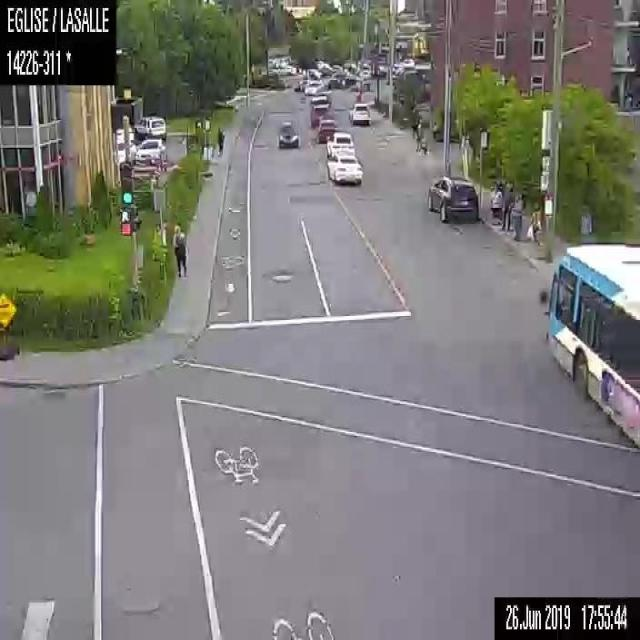bus: (539, 240, 639, 447)
pedestrian: (499, 179, 514, 232), (172, 224, 187, 277), (509, 190, 525, 239), (526, 200, 542, 248), (487, 181, 502, 224), (413, 119, 427, 158), (217, 125, 226, 156)
vehicle: (426, 173, 478, 223), (325, 152, 362, 185), (135, 138, 165, 166), (133, 114, 166, 138), (326, 130, 354, 154), (347, 102, 371, 125), (277, 124, 298, 149), (315, 116, 335, 142), (311, 94, 329, 114), (326, 75, 346, 90), (303, 80, 325, 93)
